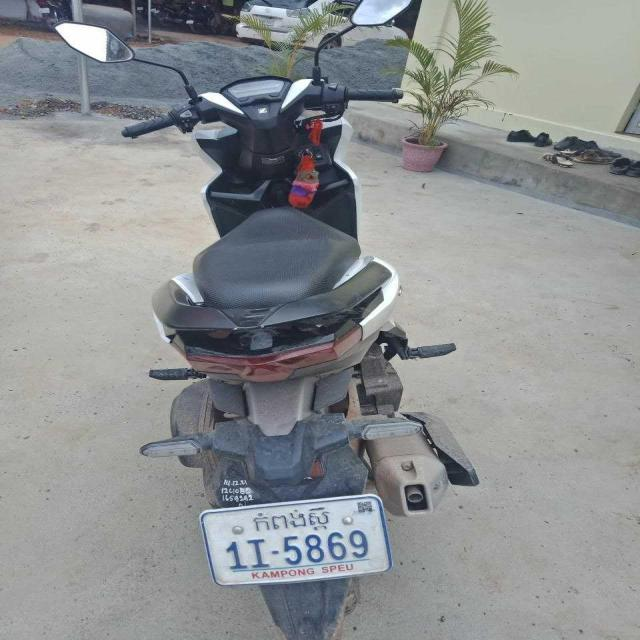Kampong_Speu: (249, 506, 336, 534)
